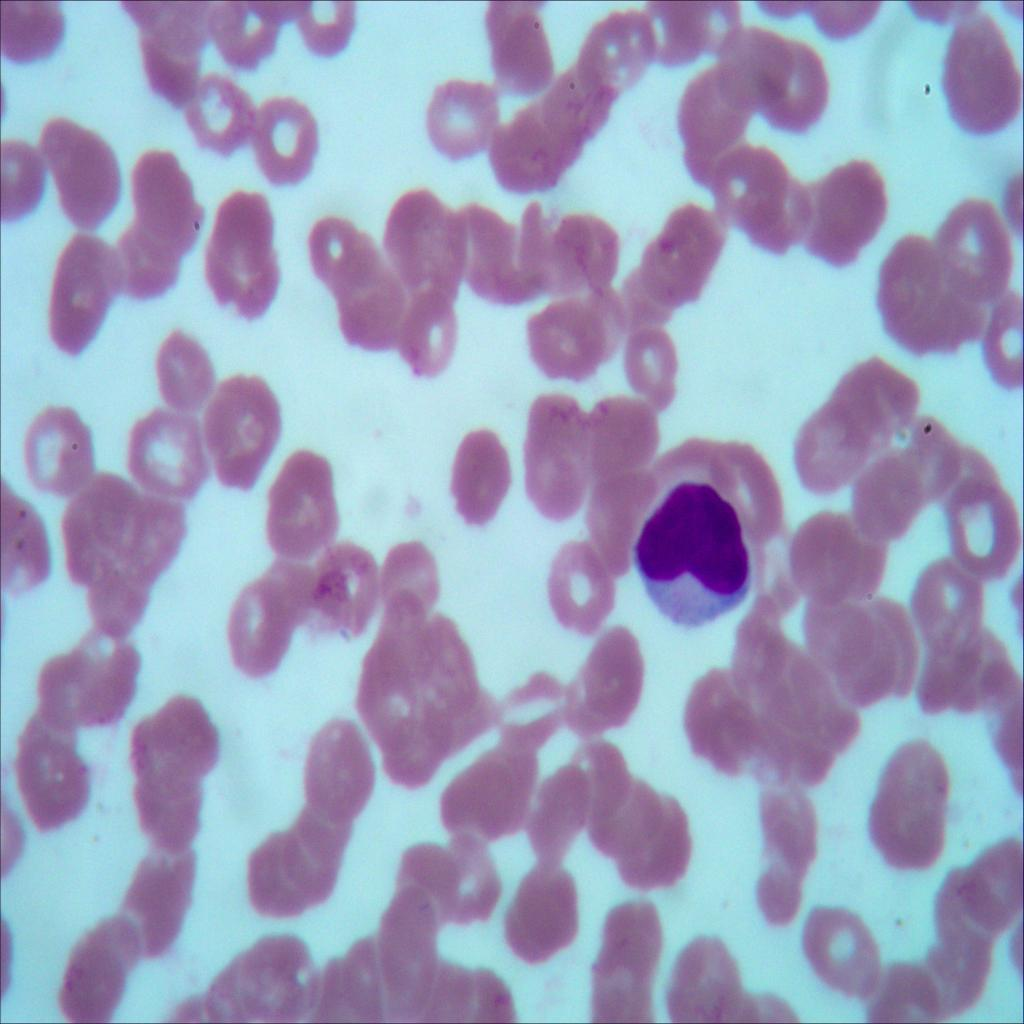Limfoblast: (622, 475, 766, 629)
